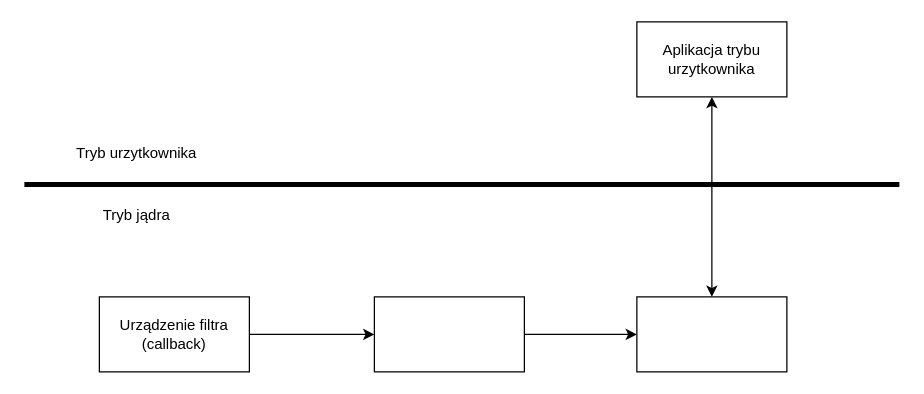
Image size: 924x394. Some labels were removed from this diagram. The centre of each missing label's shape, as x and y in pixels:
Bufor kołowy: point (448, 334)
Urządzenie kontrolne: point (711, 334)
